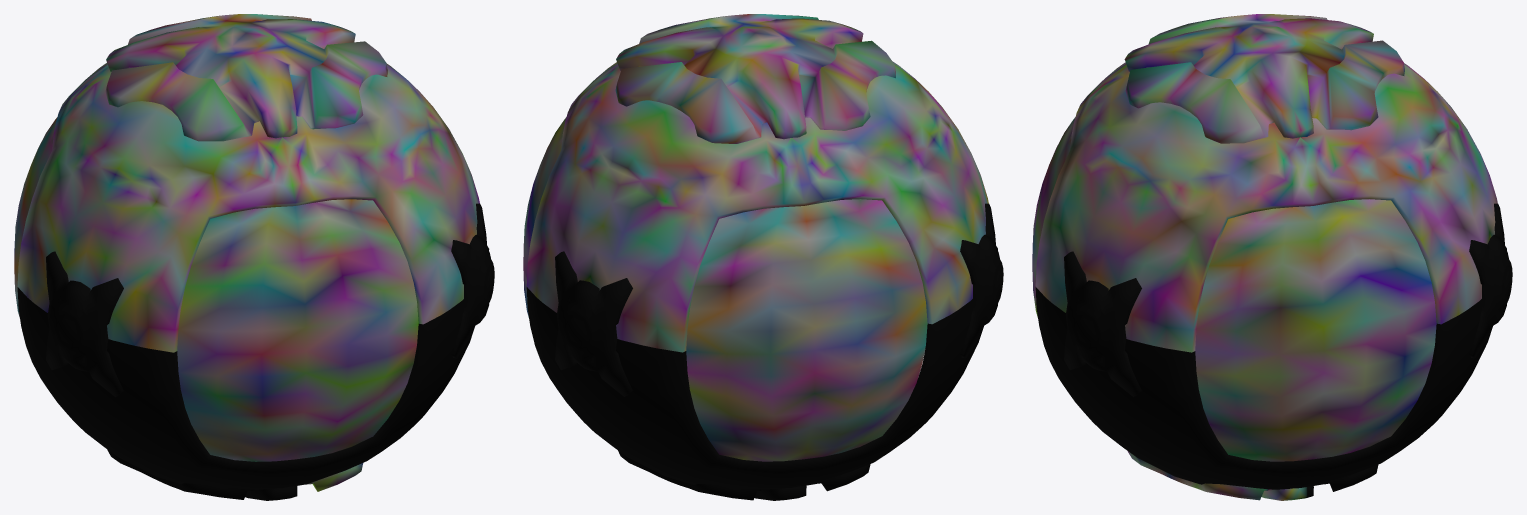
The model's file is Ball_DefaultBall00.gltf.
3 renders of one model, left to right at view 1: azimuth 30°, elevation 25°; view 2: azimuth 150°, elevation 25°; view 3: azimuth 270°, elevation 25°, orthographic.
Parts seen in each view (by area): view 1: Ball_DefaultBall00; view 2: Ball_DefaultBall00; view 3: Ball_DefaultBall00.
Part boxes in pixels (<box>): Ball_DefaultBall00: <box>14,14,494,500</box>; Ball_DefaultBall00: <box>523,14,1003,500</box>; Ball_DefaultBall00: <box>1032,14,1512,500</box>.
Size of the model in its own units: 1.85 by 1.89 by 1.85.
